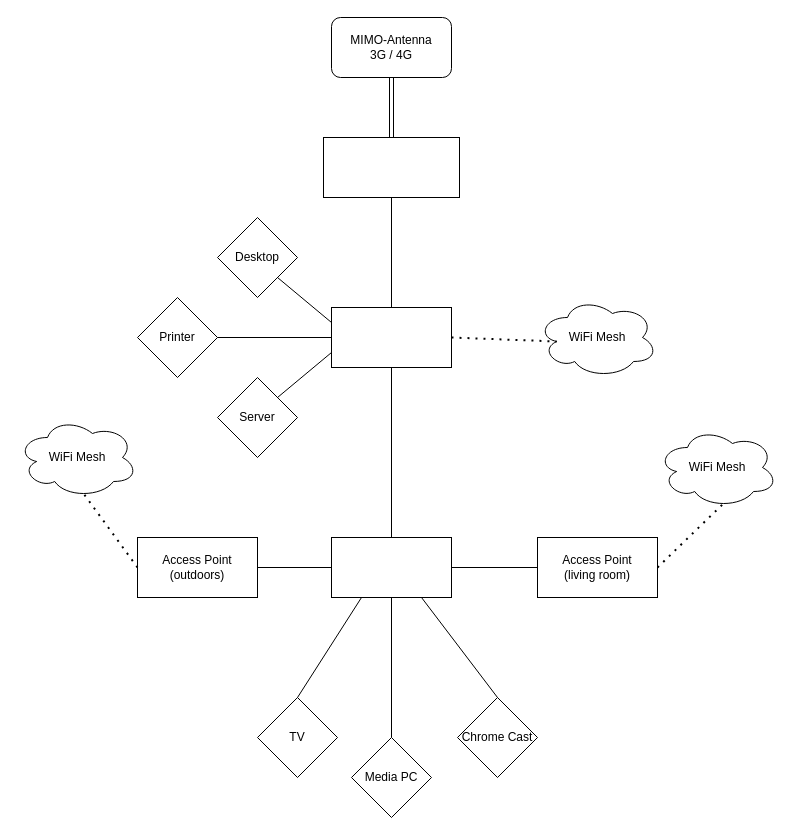
The diagram is 795 pixels wide and 835 high, and some of its shapes have lost their labels. The centre of each missing label's shape, as x and y in pixels:
4G Router (Only used as modem): point 391,167
Lower Floor Switch: point 391,567
Office Router: point 391,337
